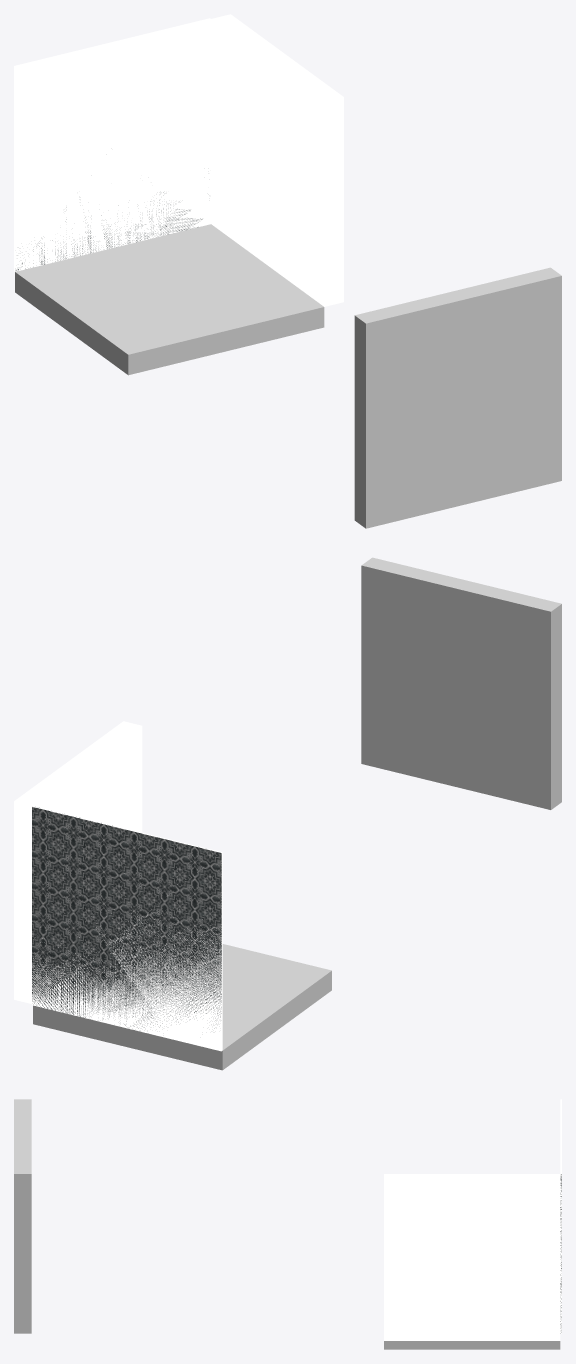
The model's file is tile30x30.glb.
3 renders of one model, top to bottom at view 1: azimuth 30°, elevation 25°; view 2: azimuth 150°, elevation 25°; view 3: azimuth 270°, elevation 25°, orthographic. The views are drawn at different scales.
Parts seen in each view (by area): view 1: Cube.003, Cube.001, Cube, Cube.002, Cube_001_geometry; view 2: Cube.003, Cube_001_geometry, Cube.001, Cube.002, Cube; view 3: Cube, Cube.003, Cube.002, Cube.001.
Part boxes in pixels (box(x1,y1,x2,y2)): Cube.003: box(354, 267, 561, 528); Cube.001: box(14, 18, 210, 271); Cube: box(211, 14, 343, 306); Cube.002: box(15, 224, 324, 375); Cube_001_geometry: box(15, 192, 202, 270); Cube.003: box(361, 557, 561, 809); Cube_001_geometry: box(32, 807, 221, 1028); Cube.001: box(32, 806, 222, 1051); Cube.002: box(33, 944, 331, 1070); Cube: box(14, 721, 142, 1003); Cube: box(384, 1174, 560, 1340); Cube.003: box(14, 1099, 31, 1333); Cube.002: box(384, 1341, 560, 1349); Cube.001: box(560, 1099, 561, 1333).
Size of the model in its own units: 2.2 by 2.2 by 6.22.
2 materials, 2 textured.
